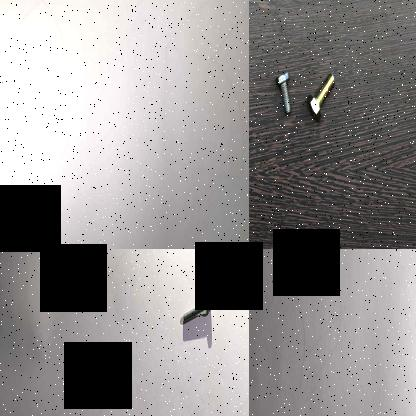Bolts: (304, 66, 340, 126), (178, 291, 214, 329), (272, 66, 293, 124)
